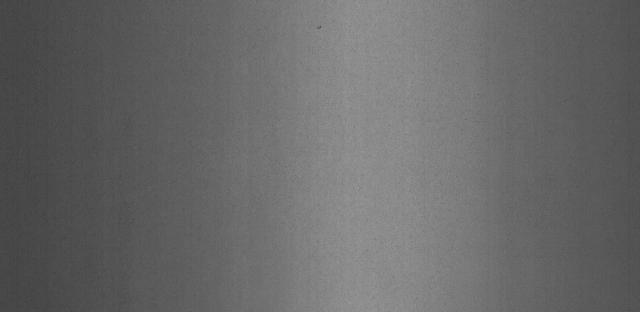inclusion: (312, 18, 327, 36)
